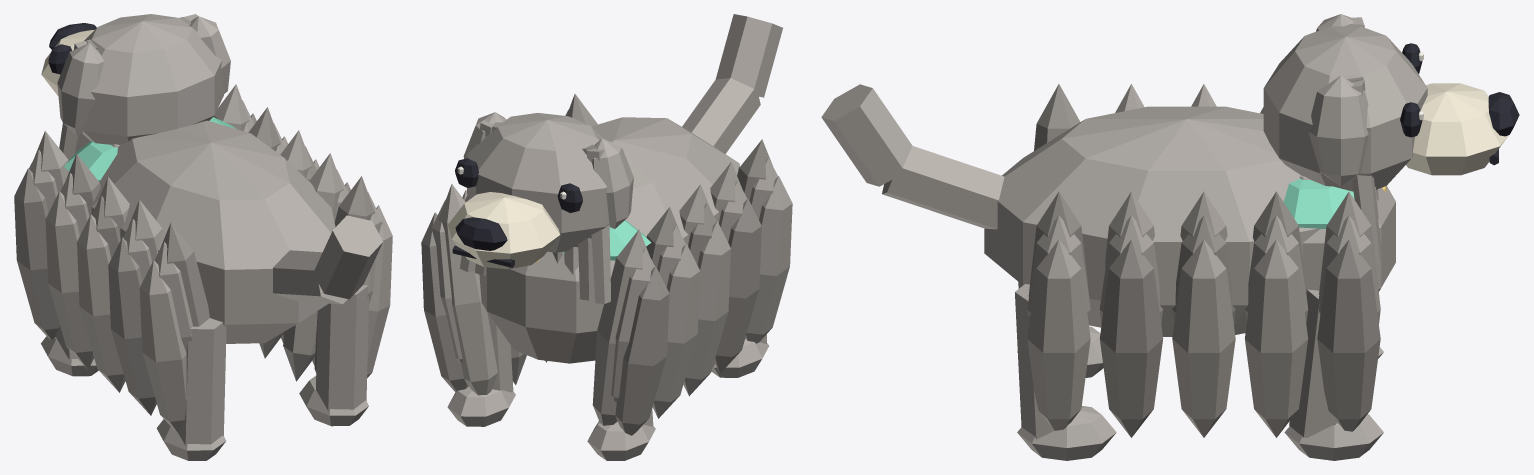
File: bergamasco_shepherd.glb
3 renders of one model, left to right at view 1: azimuth 30°, elevation 25°; view 2: azimuth 150°, elevation 25°; view 3: azimuth 270°, elevation 25°, orthographic. The views are drawn at different scales.
Visible parts, largest first — view 1: BodyMesh, HeadMesh; view 2: BodyMesh, HeadMesh; view 3: BodyMesh, HeadMesh.
Part boxes in pixels (<box>): BodyMesh: <box>14,84,392,460</box>; HeadMesh: <box>41,14,230,159</box>; BodyMesh: <box>421,14,792,460</box>; HeadMesh: <box>448,112,633,303</box>; BodyMesh: <box>821,84,1395,460</box>; HeadMesh: <box>1263,14,1519,262</box>.
Size of the model in its own units: 0.7163 by 0.925 by 1.54.
